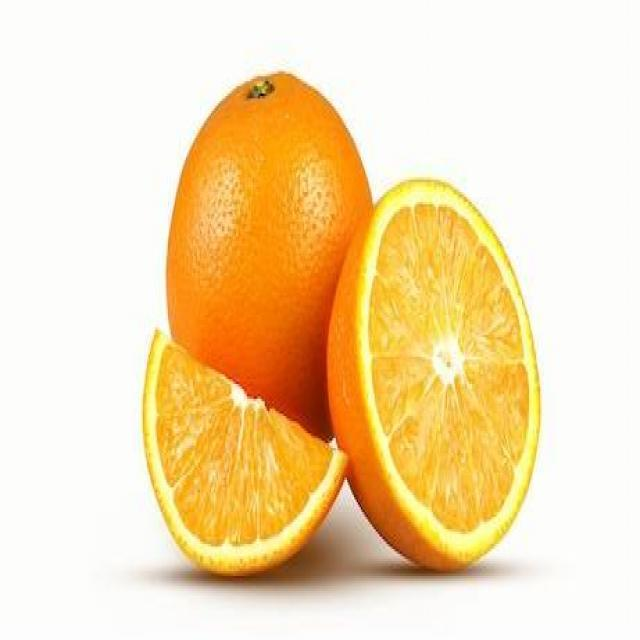Orange: (350, 170, 542, 569), (160, 65, 335, 361), (137, 392, 338, 576)
